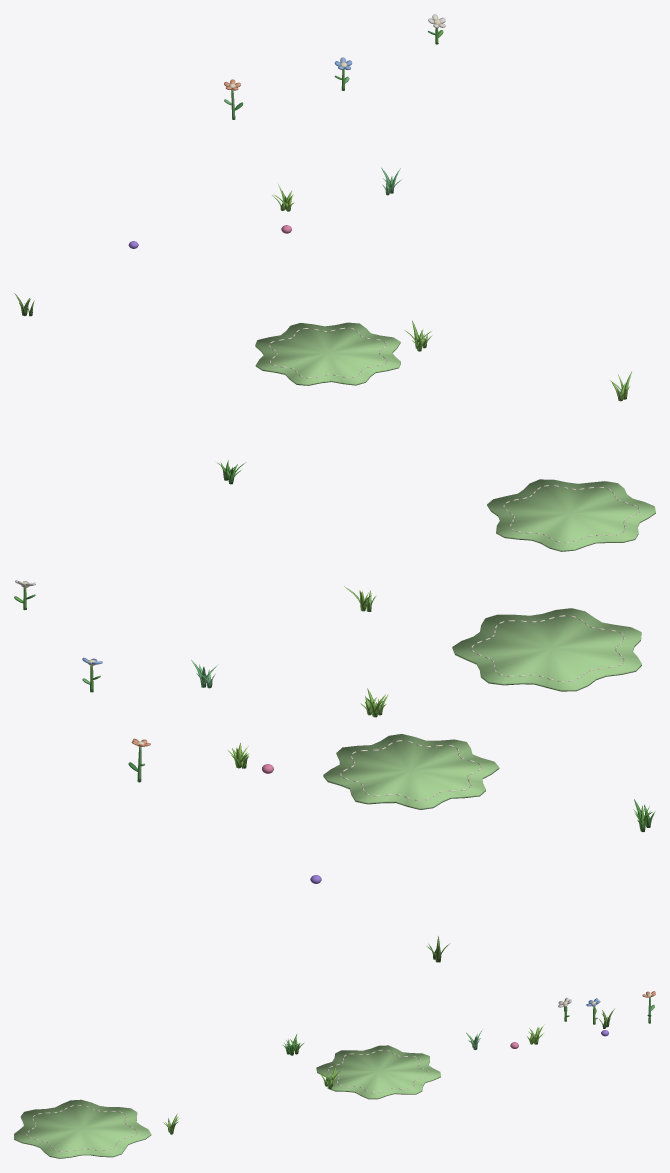
The model's file is W3_FloraRing_12_10.fbx.
3 renders of one model, top to bottom at view 1: azimuth 30°, elevation 25°; view 2: azimuth 150°, elevation 25°; view 3: azimuth 270°, elevation 25°, orthographic. The views are drawn at different scales.
Visible parts, largest first — view 1: W3_FloraRing_12_10; view 2: W3_FloraRing_12_10; view 3: W3_FloraRing_12_10.
Part boxes in pixels (x1,y1,x2,y2): W3_FloraRing_12_10: (14,14,655,551); W3_FloraRing_12_10: (14,580,655,962); W3_FloraRing_12_10: (14,991,655,1158).
Size of the model in its own units: 2.36 by 1.4 by 3.98.
